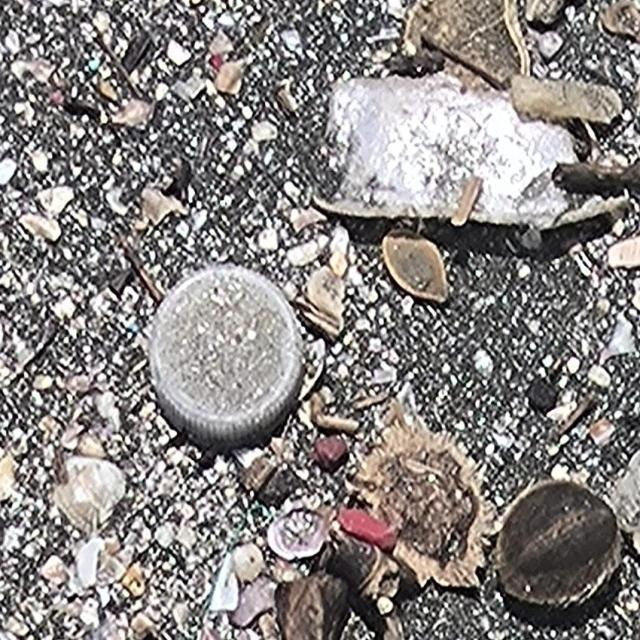litter: (150, 260, 308, 452)
